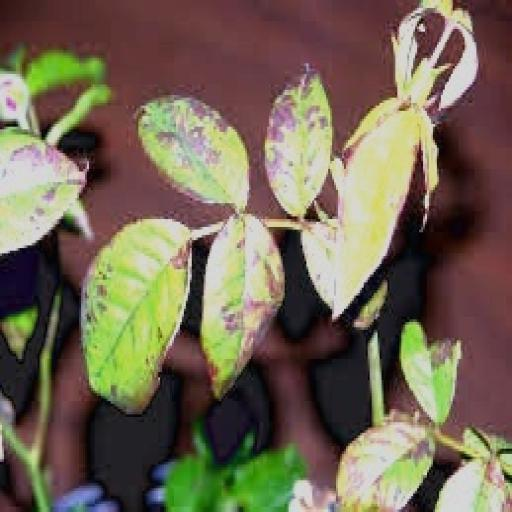downy_mildew: (82, 220, 191, 411), (333, 101, 421, 319), (202, 214, 284, 398), (139, 96, 249, 211), (0, 130, 85, 253), (265, 69, 332, 216), (394, 0, 478, 110), (337, 423, 434, 511), (400, 322, 460, 424), (232, 447, 306, 511), (435, 457, 510, 511), (24, 51, 104, 97), (167, 457, 223, 511), (301, 222, 336, 308), (0, 307, 37, 361), (0, 72, 29, 126)
